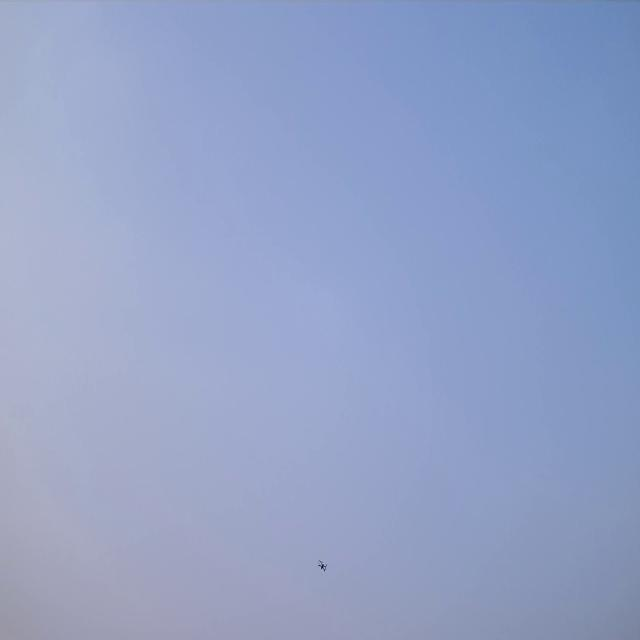UAV: (318, 558, 328, 572)
